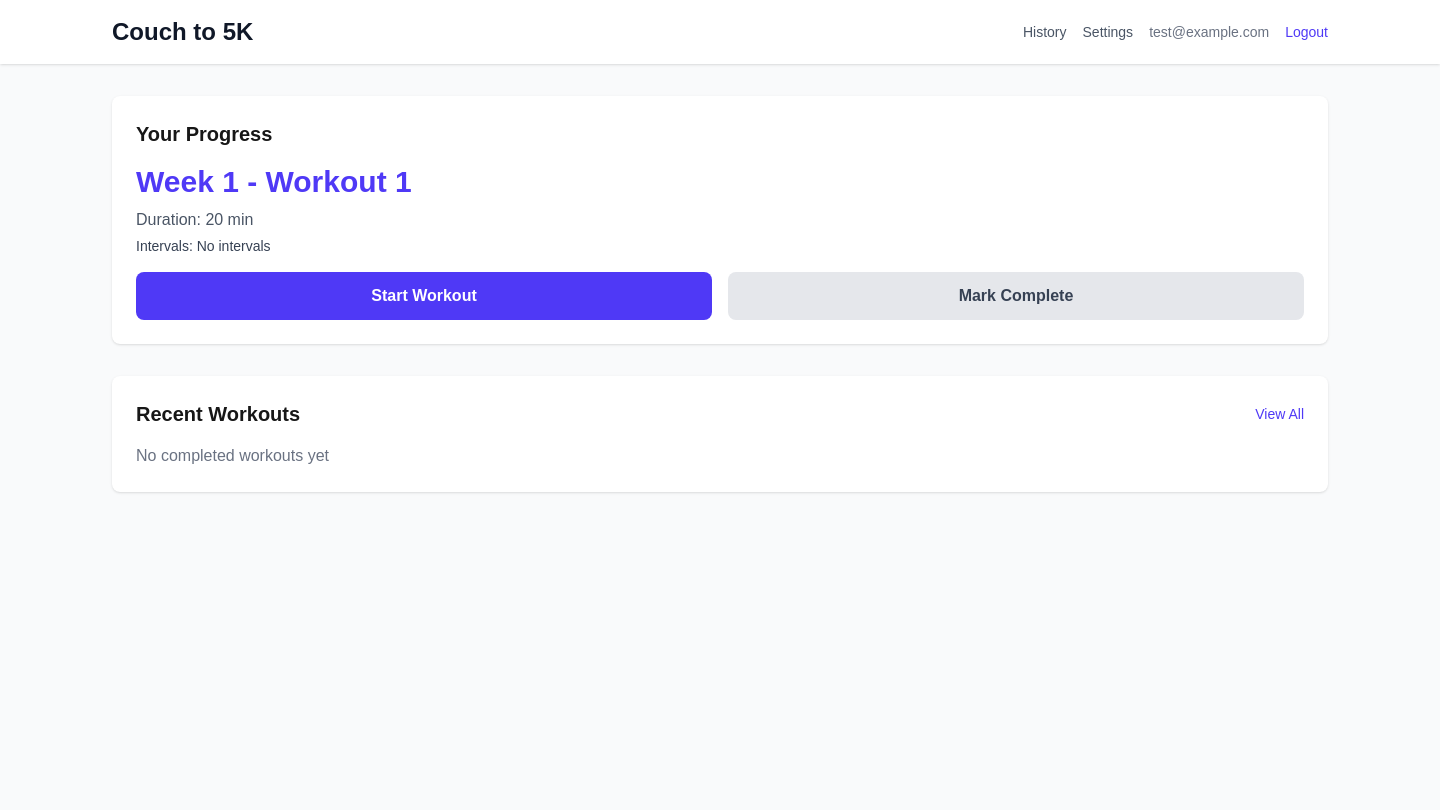
Test: DashboardPage › should open mark complete dialog when Mark Complete is clicked
# Click the Mark Complete button
Click the button "Mark Complete".
click(1016, 296)  # box [728,272,1304,320]
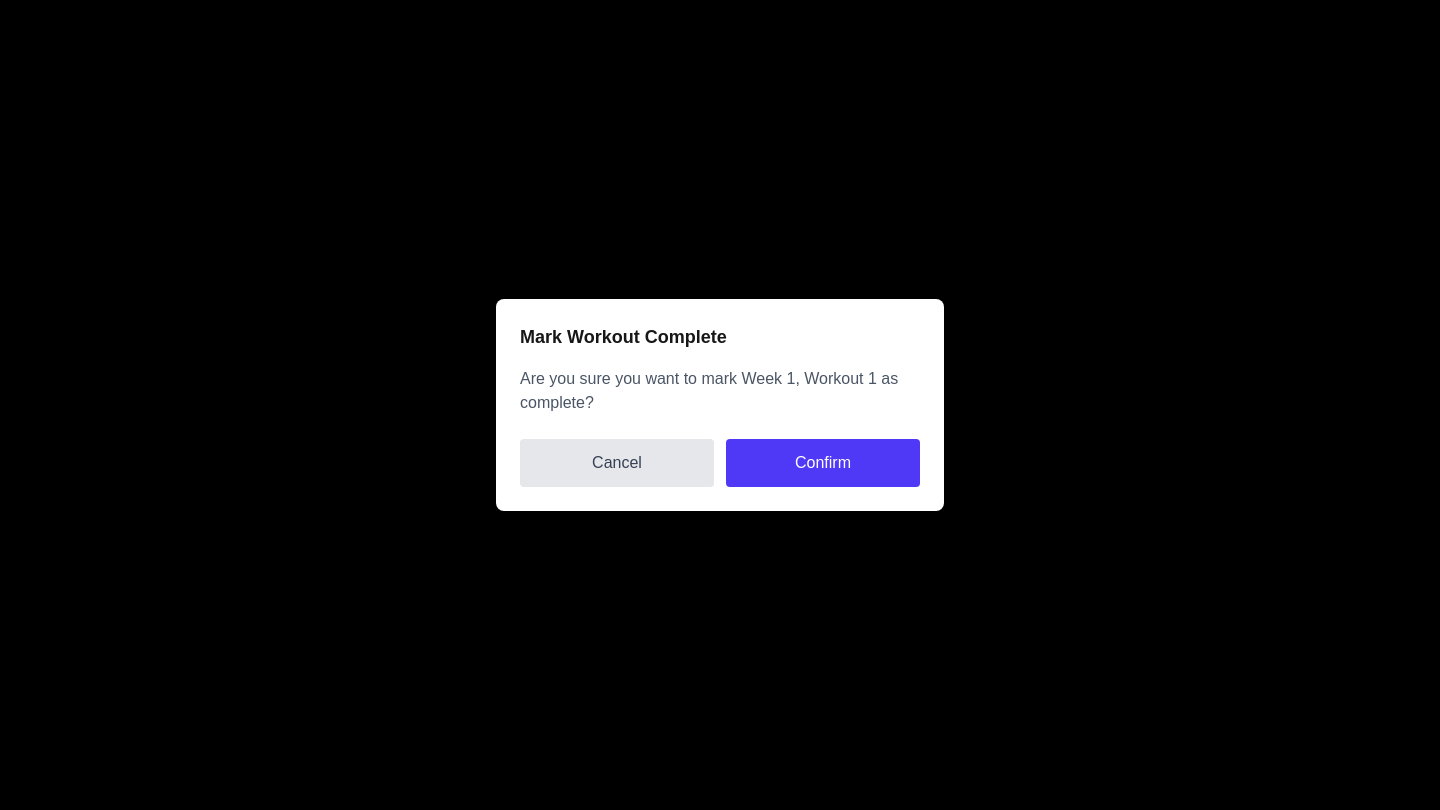
Result: the heading "Mark Workout Complete" is shown at [520,327,727,347]
Result: the text "Are you sure you want to mark Week 1, Workout 1 as complete?" is shown at [520,367,920,415]
